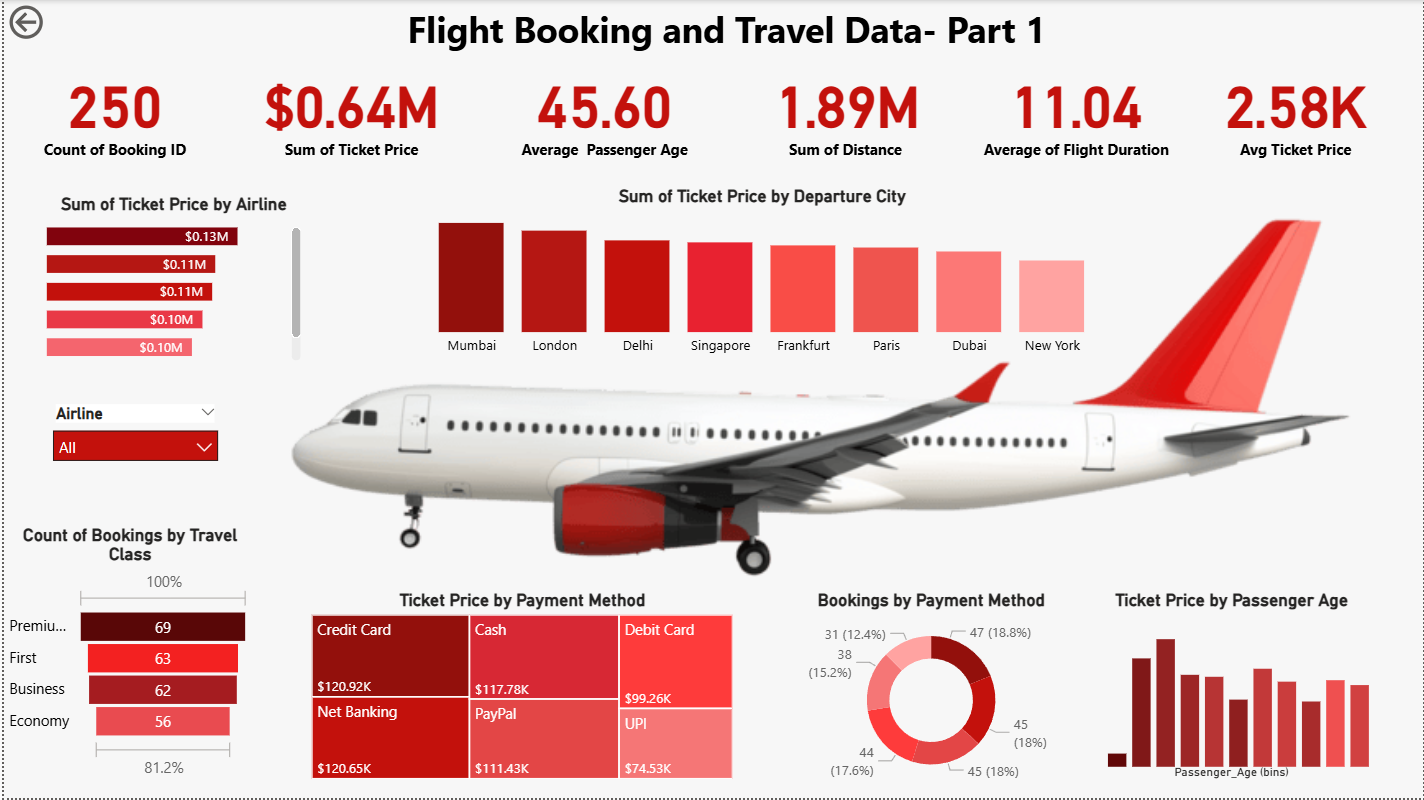

The page's visual inventory and layout, read from the dashboard file:
{"tool":"powerbi","page":{"name":"PART 1","canvas":[1280,720],"ordinal":0},"visuals":[{"type":"textbox","box":[32.3,0,1237.7,58.5],"z":0},{"type":"image","box":[194.1,159.2,1086,399.3],"z":1000},{"type":"card","fields":{"Values":["Count(flight_bookings_sample (1).Booking_ID)"]},"box":[11.2,48.5,177.9,102],"z":2000},{"type":"card","fields":{"Values":["Sum(flight_bookings_sample (1).Ticket_Price)"]},"box":[202.8,48.5,221.4,102],"z":3000},{"type":"card","fields":{"Values":["Avg(flight_bookings_sample (1).Passenger_Age)"]},"box":[444.1,48.5,195.3,102],"z":4000},{"type":"card","fields":{"Values":["Sum(flight_bookings_sample (1).Distance_km)"]},"box":[671.7,48.5,177.9,102],"z":5000},{"type":"actionButton","box":[0,0,100,40],"z":6000},{"type":"card","fields":{"Values":["Avg(flight_bookings_sample (1).Flight_Duration_hr)"]},"box":[858.3,48.5,216.4,102],"z":7000},{"type":"card","fields":{"Values":["flight_bookings_sample (1).Avg Ticket Price"]},"box":[1074.8,48.5,179.1,102],"z":8000},{"type":"clusteredBarChart","fields":{"Category":["flight_bookings_sample (1).Airline"],"Y":["Sum(flight_bookings_sample (1).Ticket_Price)"]},"box":[33.6,174.2,238.8,155.5],"z":9000},{"type":"columnChart","title":"Sum of Ticket Price by Departure City","fields":{"Y":["Sum(flight_bookings_sample (1).Ticket_Price)"],"Category":["flight_bookings_sample (1).Departure_City"]},"box":[357,167.9,653.1,161.7],"z":10000},{"type":"funnel","title":"Count of Bookings by Travel Class","fields":{"Category":["flight_bookings_sample (1).Travel_Class"],"Y":["CountNonNull(flight_bookings_sample (1).Booking_ID)"]},"box":[0,473.9,227.6,233.9],"z":11000},{"type":"treemap","title":"Ticket Price by Payment Method","fields":{"Group":["flight_bookings_sample (1).Payment_Method"],"Values":["Sum(flight_bookings_sample (1).Ticket_Price)"]},"box":[272.4,532.4,389.4,175.4],"z":12000},{"type":"donutChart","title":"Bookings by Payment Method","fields":{"Category":["flight_bookings_sample (1).Payment_Method"],"Y":["CountNonNull(flight_bookings_sample (1).Booking_ID)"]},"box":[705.3,532.4,261.2,181.6],"z":13000},{"type":"columnChart","title":" Ticket Price by Passenger Age ","fields":{"Category":["flight_bookings_sample (1).Passenger_Age (bins)"],"Y":["Sum(flight_bookings_sample (1).Ticket_Price)"]},"box":[966.6,532.4,279.9,175.4],"z":14000},{"type":"slicer","fields":{"Values":["flight_bookings_sample (1).Airline"]},"box":[33.6,359.5,169.2,73.4],"z":15000}]}

Visuals, with their boxes in screenshot pixels (x1, y1, x2, y2), scaled from the page's 1280x720 canvas onto the 1424x800 screenshot:
textbox: [x1=36, y1=0, x2=1413, y2=65]
image: [x1=216, y1=177, x2=1423, y2=621]
card - Count(flight_bookings_sample (1).Booking_ID): [x1=12, y1=54, x2=210, y2=167]
card - Sum(flight_bookings_sample (1).Ticket_Price): [x1=226, y1=54, x2=472, y2=167]
card - Avg(flight_bookings_sample (1).Passenger_Age): [x1=494, y1=54, x2=711, y2=167]
card - Sum(flight_bookings_sample (1).Distance_km): [x1=747, y1=54, x2=945, y2=167]
actionButton: [x1=0, y1=0, x2=111, y2=44]
card - Avg(flight_bookings_sample (1).Flight_Duration_hr): [x1=955, y1=54, x2=1196, y2=167]
card - flight_bookings_sample (1).Avg Ticket Price: [x1=1196, y1=54, x2=1395, y2=167]
clusteredBarChart - flight_bookings_sample (1).Airline x Sum(flight_bookings_sample (1).Ticket_Price): [x1=37, y1=194, x2=303, y2=366]
"Sum of Ticket Price by Departure City" columnChart: [x1=397, y1=187, x2=1124, y2=366]
"Count of Bookings by Travel Class" funnel: [x1=0, y1=527, x2=253, y2=786]
"Ticket Price by Payment Method" treemap: [x1=303, y1=592, x2=736, y2=786]
"Bookings by Payment Method" donutChart: [x1=785, y1=592, x2=1075, y2=793]
" Ticket Price by Passenger Age " columnChart: [x1=1075, y1=592, x2=1387, y2=786]
slicer - flight_bookings_sample (1).Airline: [x1=37, y1=399, x2=226, y2=481]
